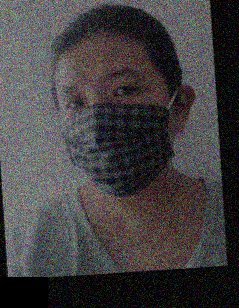with_mask: (57, 67, 174, 200)
